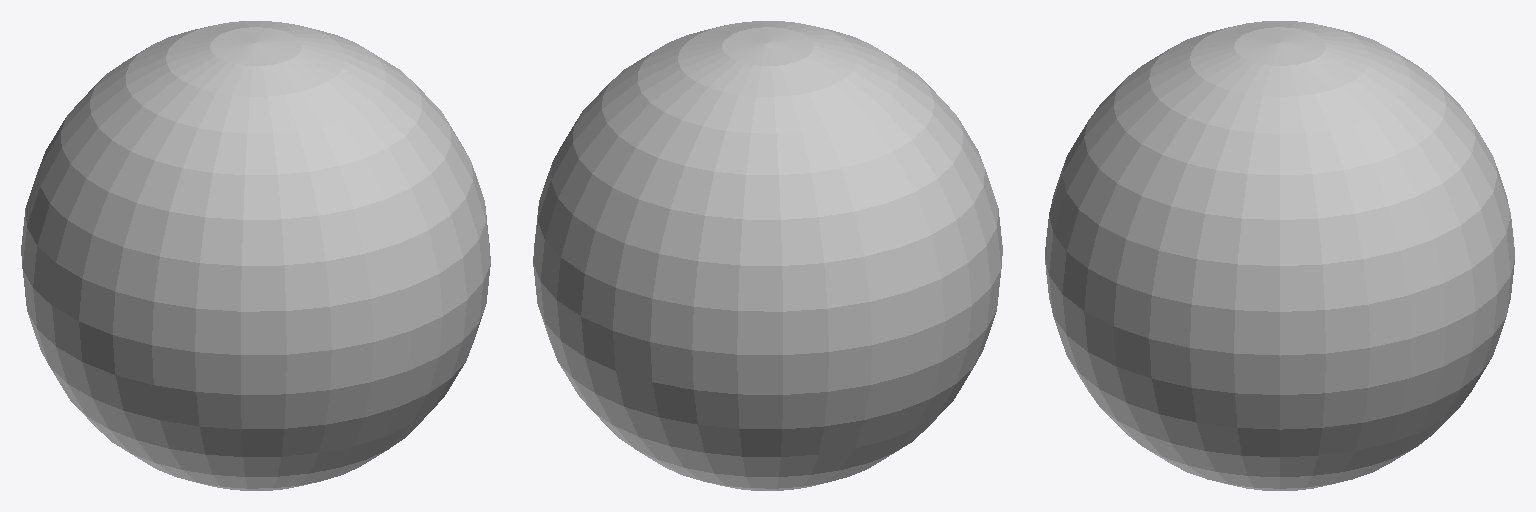
Rendered from weapon.obj.
3 renders of one model, left to right at view 1: azimuth 30°, elevation 25°; view 2: azimuth 150°, elevation 25°; view 3: azimuth 270°, elevation 25°, orthographic.
Visible parts, largest first — view 1: 球; view 2: 球; view 3: 球.
Boxes of the visible parts, box(x1,y1,x2,y2) form: 球: box(21, 21, 490, 490); 球: box(533, 21, 1002, 490); 球: box(1045, 21, 1514, 490).
Size of the model in its own units: 2 by 2 by 2.